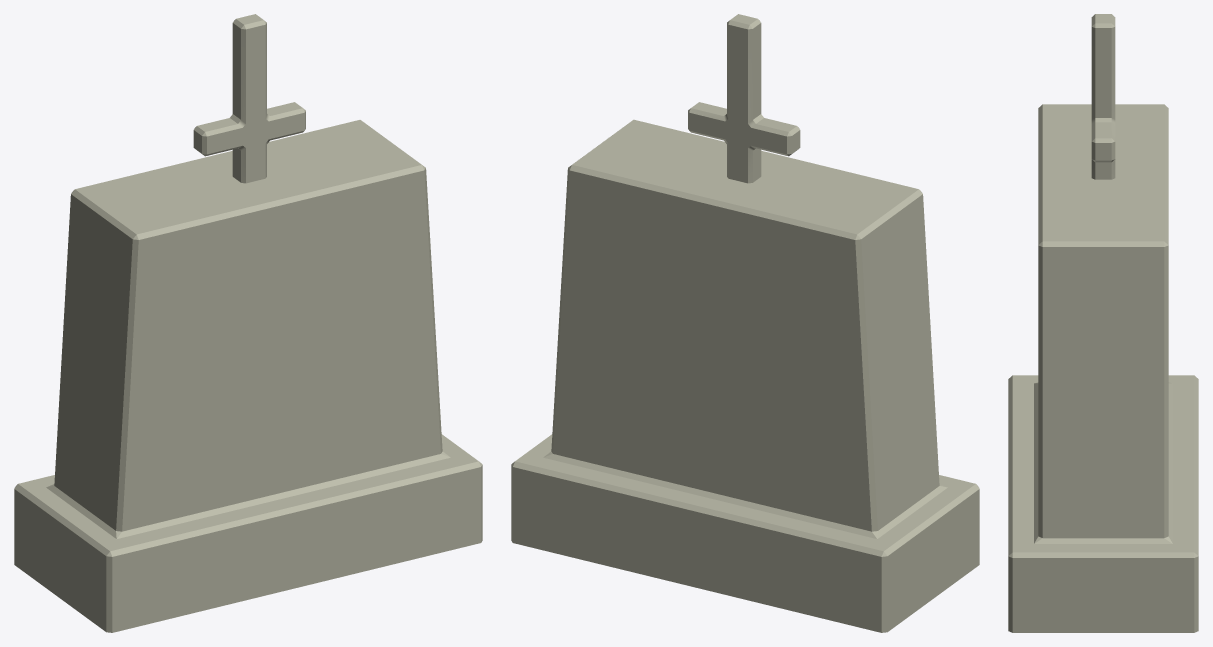
File: Lapida_5_FBX.fbx
3 views of the same model, side by side, from view 1: azimuth 30°, elevation 25°; view 2: azimuth 150°, elevation 25°; view 3: azimuth 270°, elevation 25° (orthographic).
Parts seen in each view (by area): view 1: Lapida_5; view 2: Lapida_5; view 3: Lapida_5.
Part boxes in pixels (bbox=[...]): Lapida_5: bbox=[14, 14, 482, 632]; Lapida_5: bbox=[511, 14, 979, 632]; Lapida_5: bbox=[1008, 14, 1198, 632].
Bounding box in the file's own units: 0.8432 × 1.14 × 0.3748.
